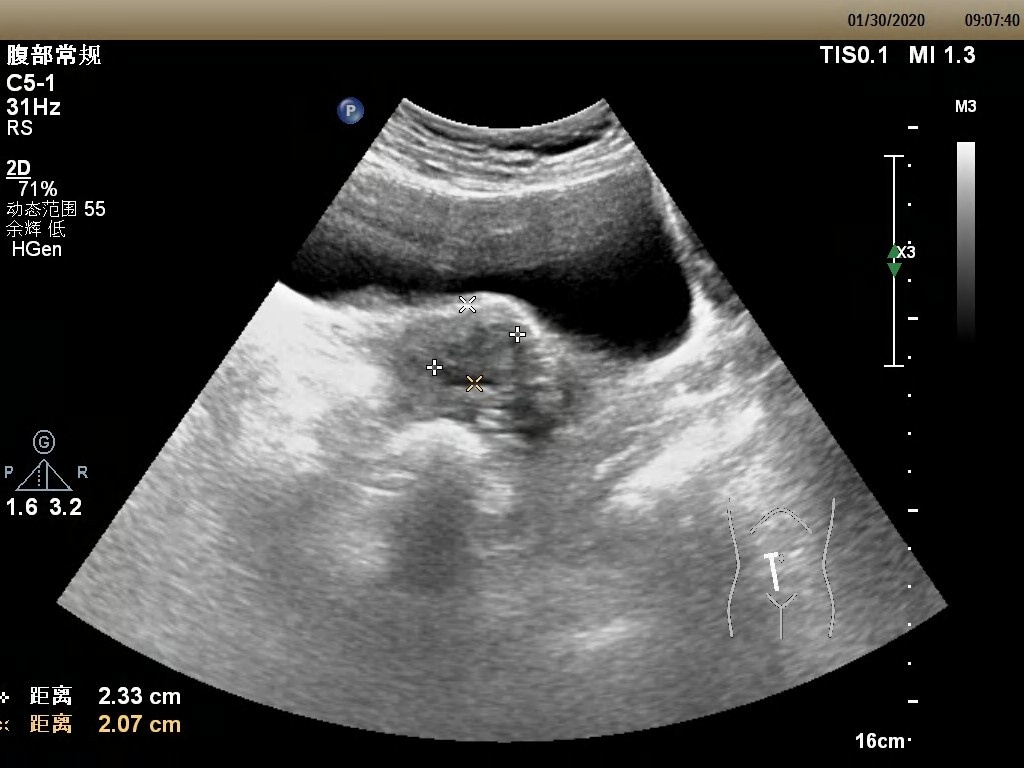肌瘤: (438, 314, 517, 380)
